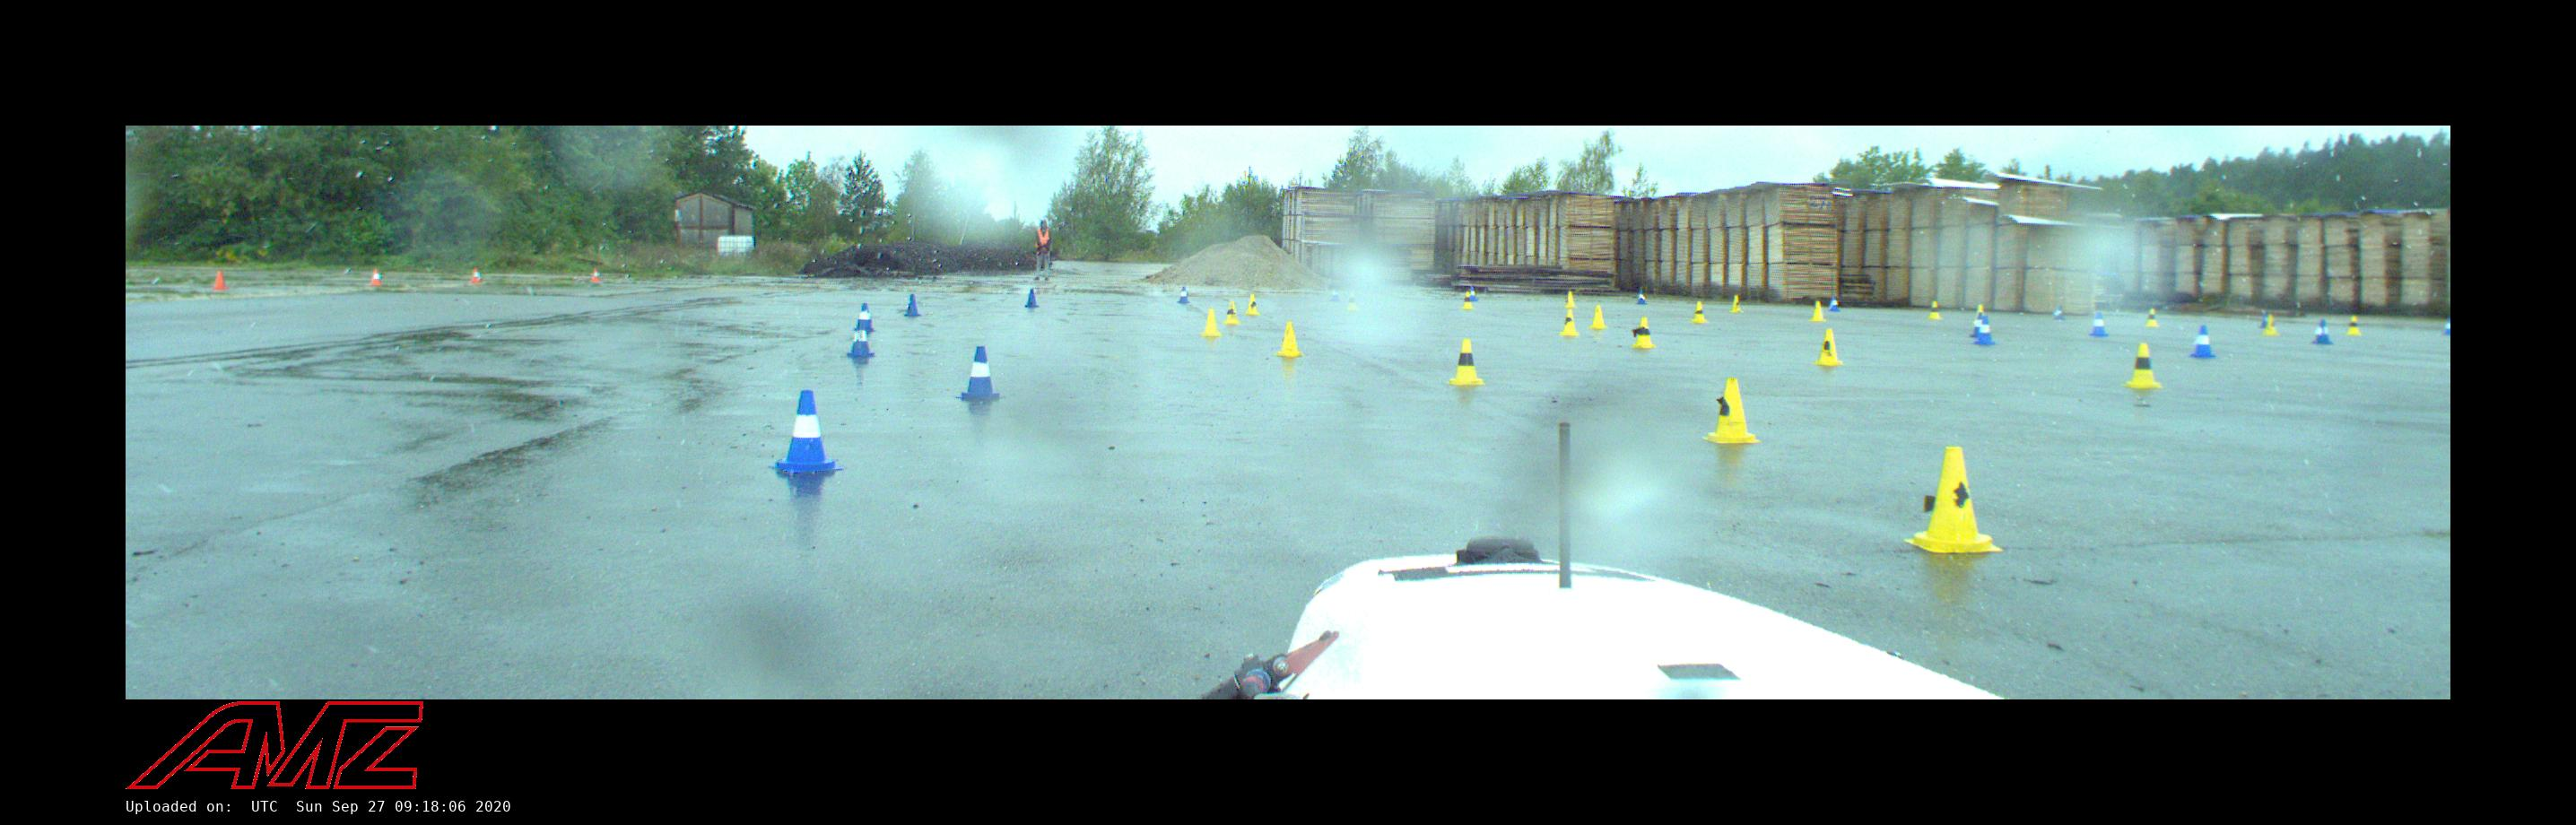blue_cone: (769, 391, 843, 470), (956, 347, 1005, 398), (843, 320, 876, 357), (2190, 325, 2215, 358), (854, 302, 876, 332), (1973, 317, 1994, 343), (1971, 307, 1986, 337), (2313, 320, 2331, 343), (904, 294, 922, 316), (2090, 312, 2106, 335), (1023, 289, 1040, 307), (1176, 286, 1191, 302), (1467, 284, 1479, 302), (2054, 306, 2065, 320), (1329, 286, 1341, 301), (1830, 294, 1840, 311), (1636, 288, 1644, 306), (2443, 317, 2449, 335)
orange_cone: (210, 271, 228, 289), (368, 270, 383, 288), (468, 268, 483, 283), (587, 268, 600, 281)
yellow_cone: (1904, 445, 2001, 552), (1702, 380, 1755, 445), (2123, 342, 2164, 388), (1446, 340, 1485, 386), (1275, 320, 1304, 357), (1814, 330, 1840, 365), (1631, 317, 1656, 347), (1199, 309, 1222, 335), (1557, 309, 1579, 335), (1690, 301, 1709, 322), (2262, 312, 2277, 337), (1244, 294, 1260, 316), (1590, 306, 1607, 327), (1226, 301, 1240, 324), (1809, 301, 1825, 320), (2346, 317, 2361, 335), (2144, 309, 2159, 327), (1345, 293, 1359, 311), (1929, 301, 1940, 319), (1564, 291, 1576, 307), (1464, 293, 1472, 309), (1732, 296, 1740, 312)
